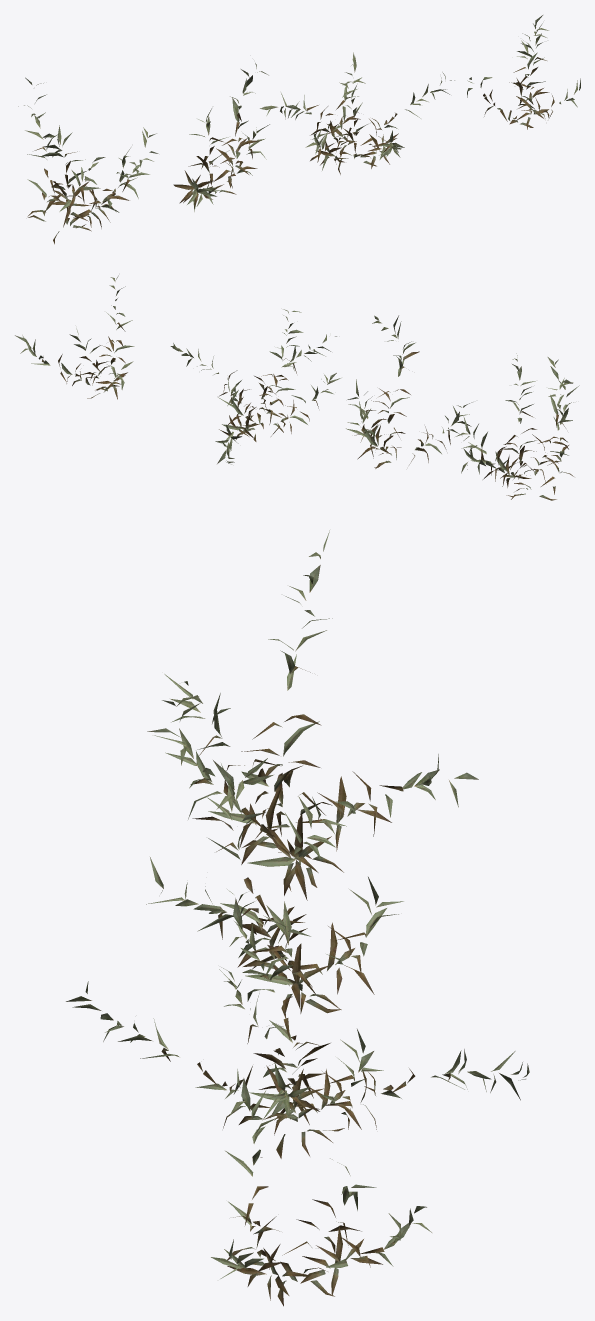
The model's file is shrub_02.glb.
3 views of the same model, one above another, from view 1: azimuth 30°, elevation 25°; view 2: azimuth 150°, elevation 25°; view 3: azimuth 270°, elevation 25° (orthographic). The views are drawn at different scales.
Visible parts, largest first — view 1: shrub_02_a; view 2: shrub_02_a; view 3: shrub_02_a.
Part boxes in pixels (x1=…): shrub_02_a: x1=18, y1=15, x2=580, y2=244; shrub_02_a: x1=15, y1=275, x2=579, y2=500; shrub_02_a: x1=66, y1=530, x2=529, y2=1306.
Size of the model in its own units: 6.05 by 1.7 by 2.28.
1 material, 1 textured.
